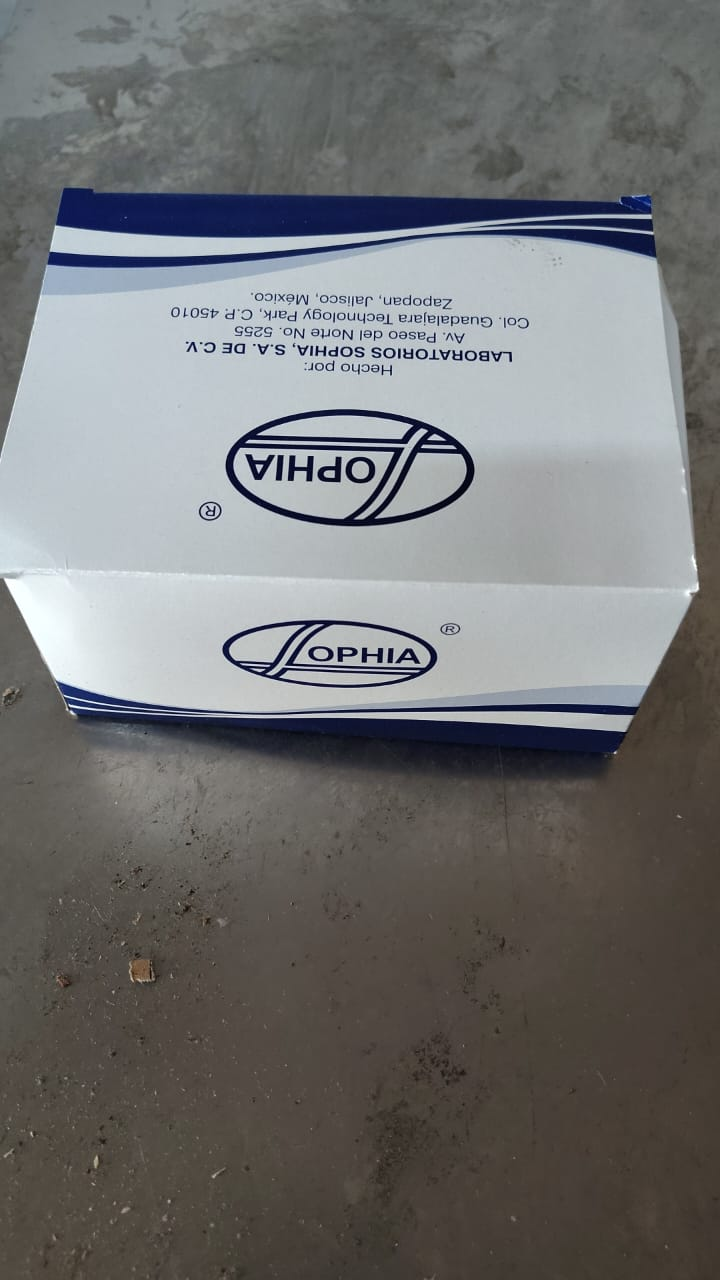Carton: (0, 189, 698, 757)
